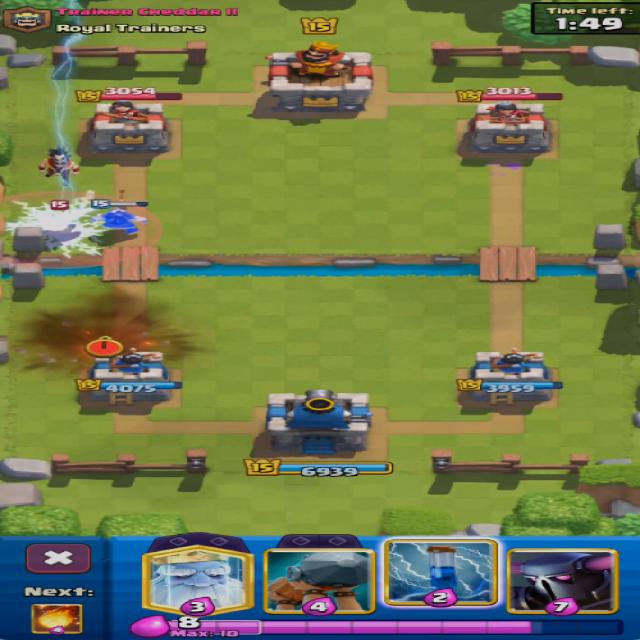Enemy-ElectroWizard: (38, 146, 78, 186)
Enemy-KingTower: (269, 41, 372, 113)
Enemy-PrincessTower: (86, 101, 168, 154), (468, 101, 550, 154)
